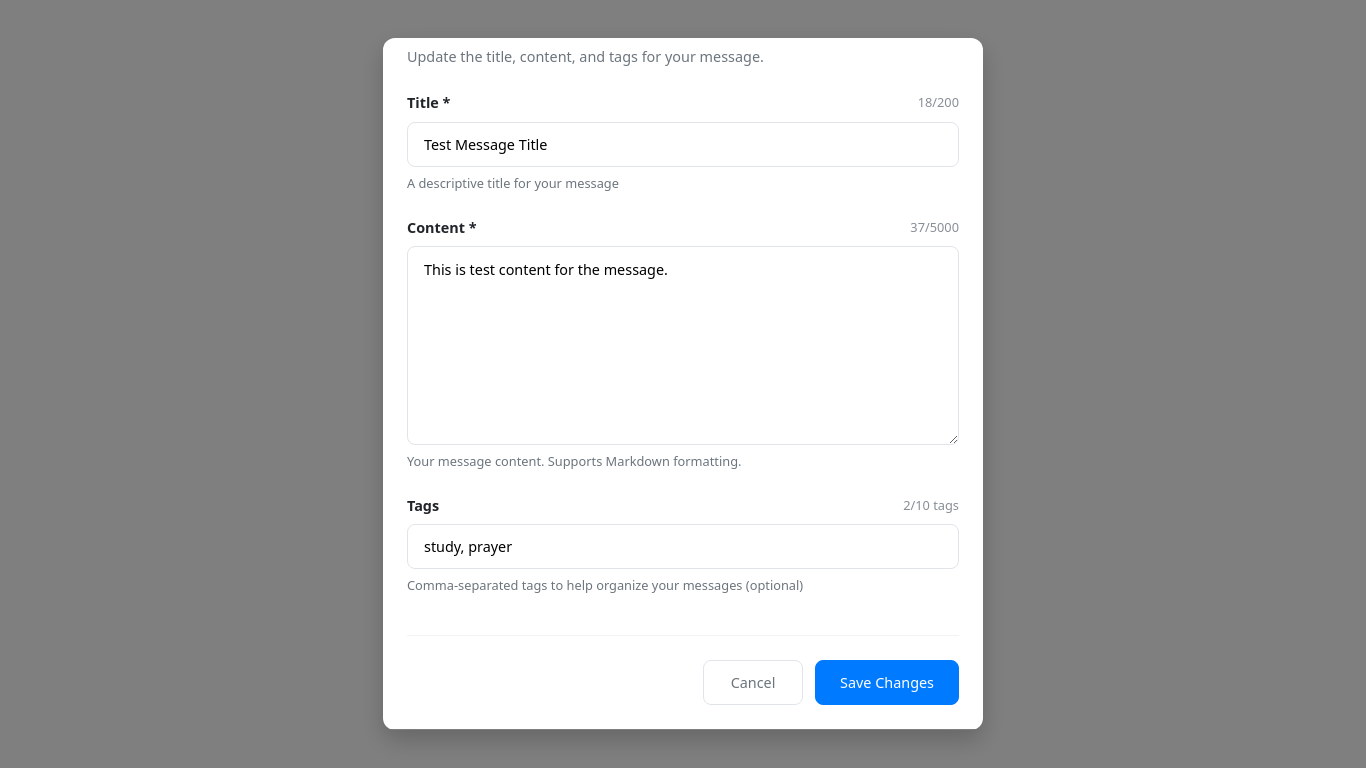
Test: MessageEditModal › Form Submission › handles unexpected errors during submission
This screenshot has width=1366, height=768.
(page scrolled)
Click the button "Save Changes" at coordinates (887, 683), box [815, 660, 959, 705]
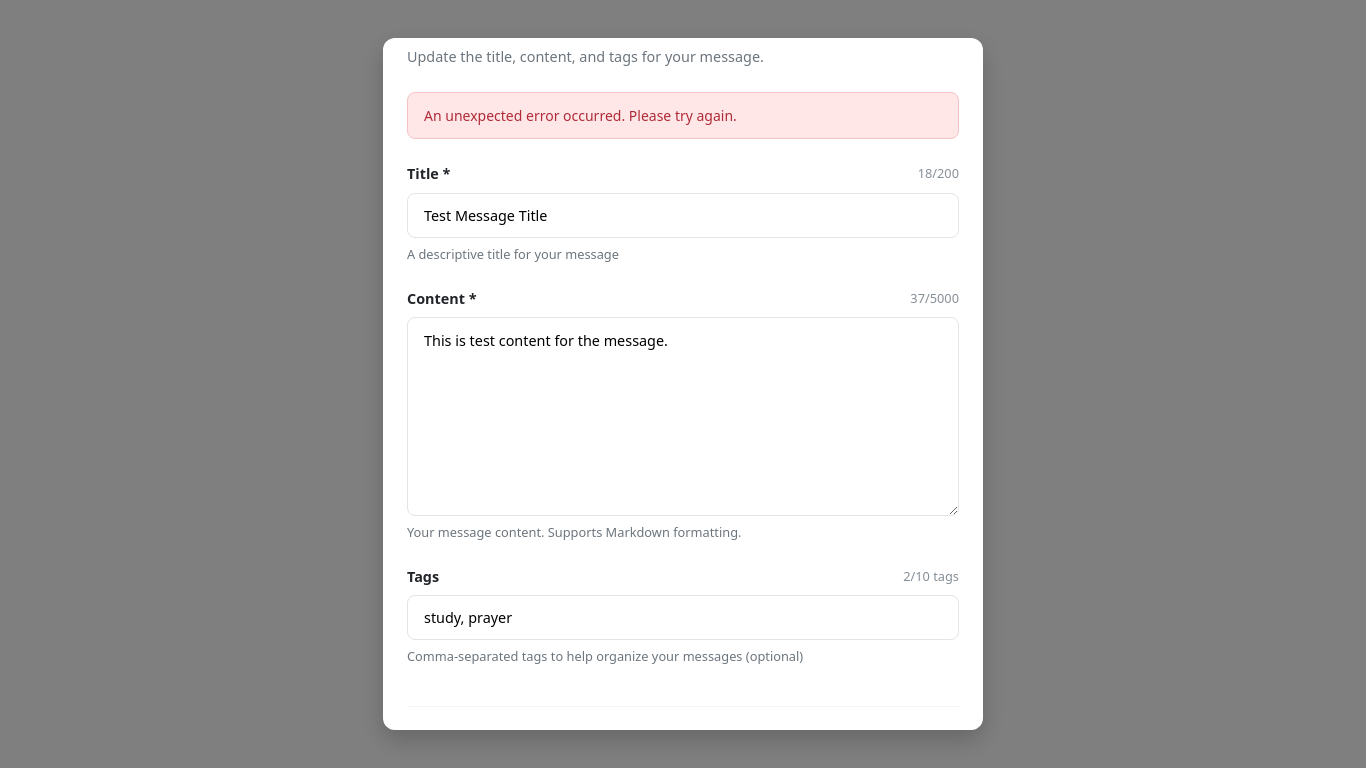
Now the text "An unexpected error occurred. Please try again." is shown, box [407, 92, 959, 139]
